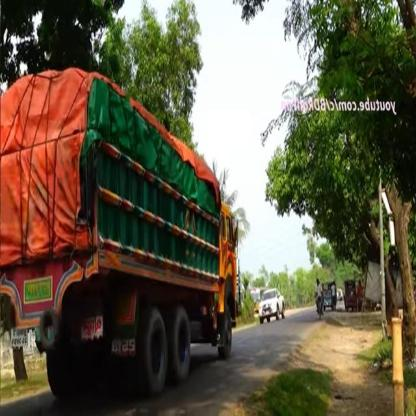truck: (4, 79, 242, 391)
